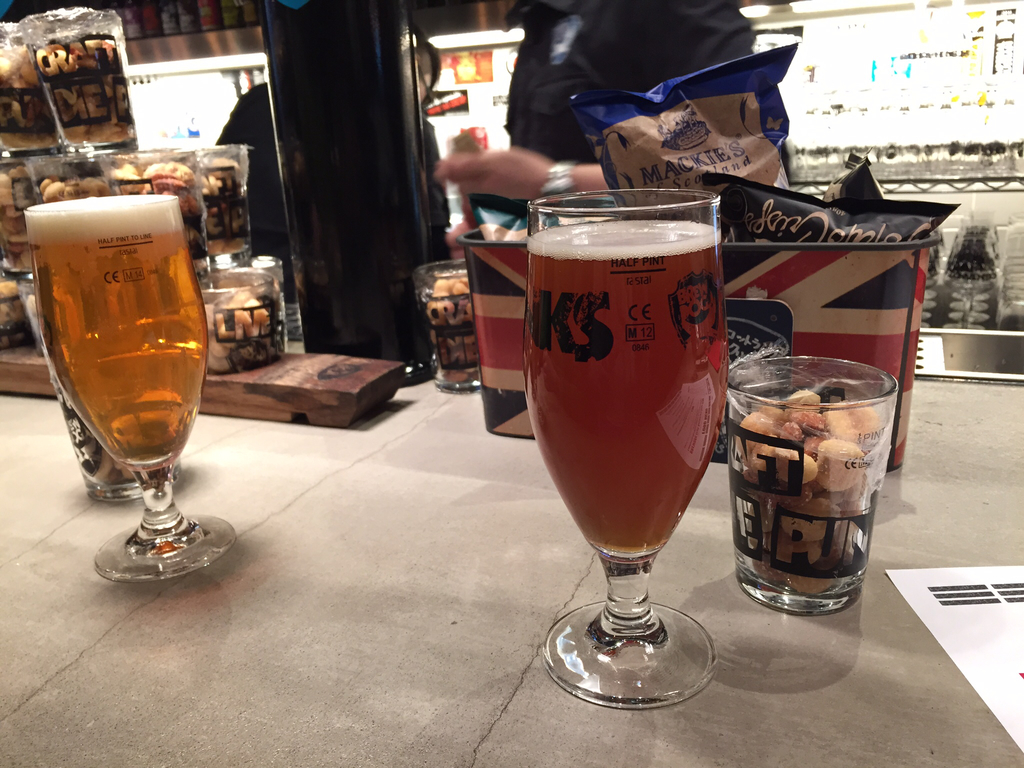Beer: (522, 214, 730, 552), (21, 195, 204, 467)
